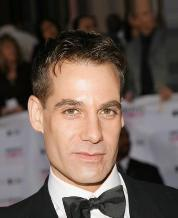face: (58, 96, 120, 163)
